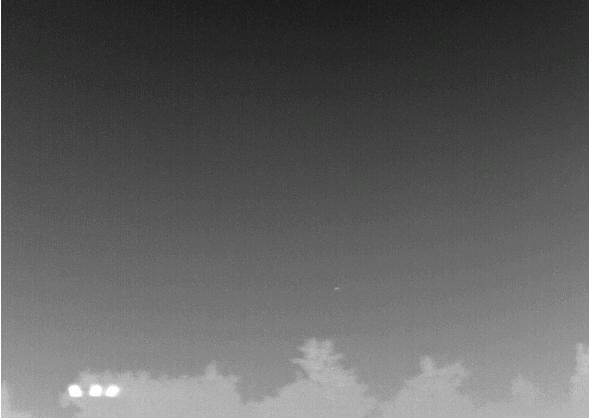dim target: (333, 284, 339, 291)
